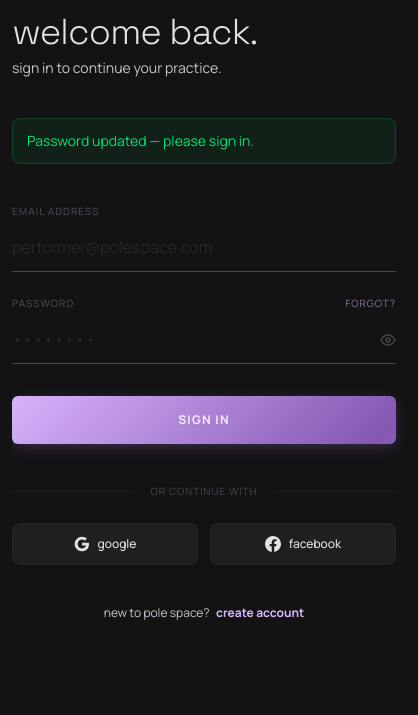
Test: LoginForm › displays server error returned from loginAction
The width and height of the screenshot is (418, 715).
Step 1. Type "a@b.com" into the field labelled "email address" → (204, 248), box [12, 223, 396, 272]
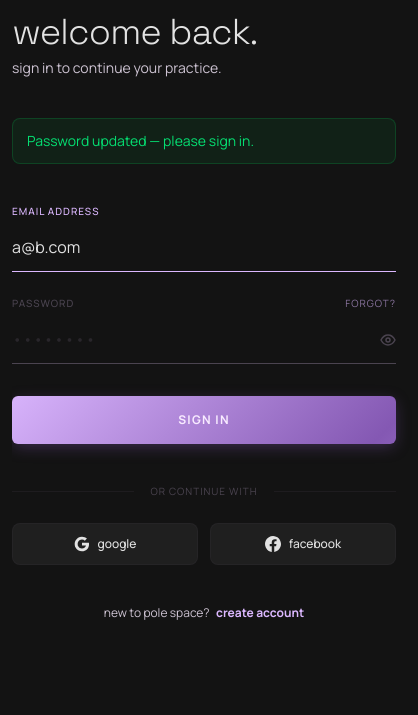
Step 2. Type "password123" into the password field with placeholder "••••••••" → (204, 340), box [12, 315, 396, 364]
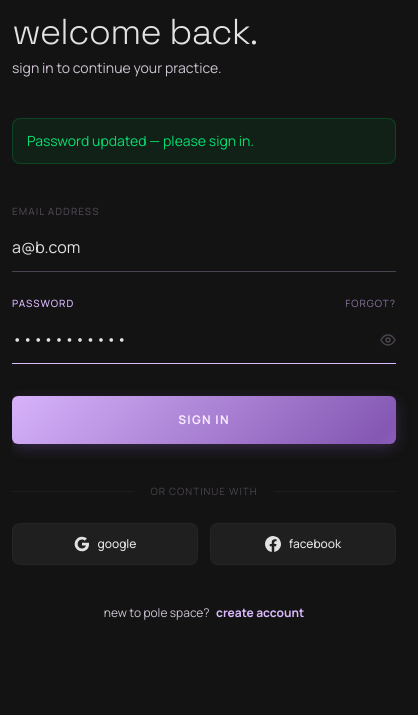
Step 3. Click the button "sign in" → (204, 420), box [12, 396, 396, 444]
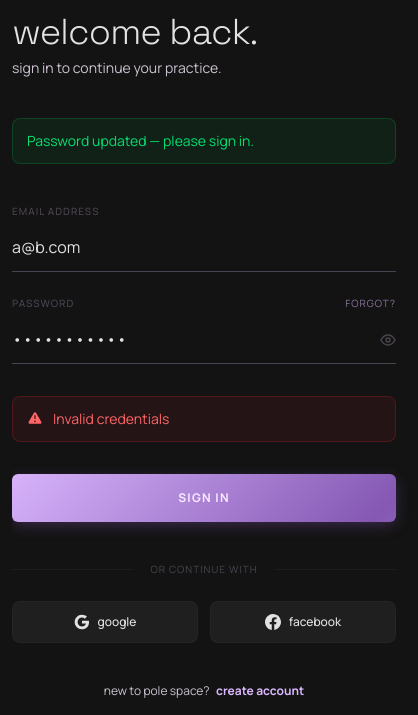
expect the text "Invalid credentials" is shown: met, box [53, 409, 169, 429]
